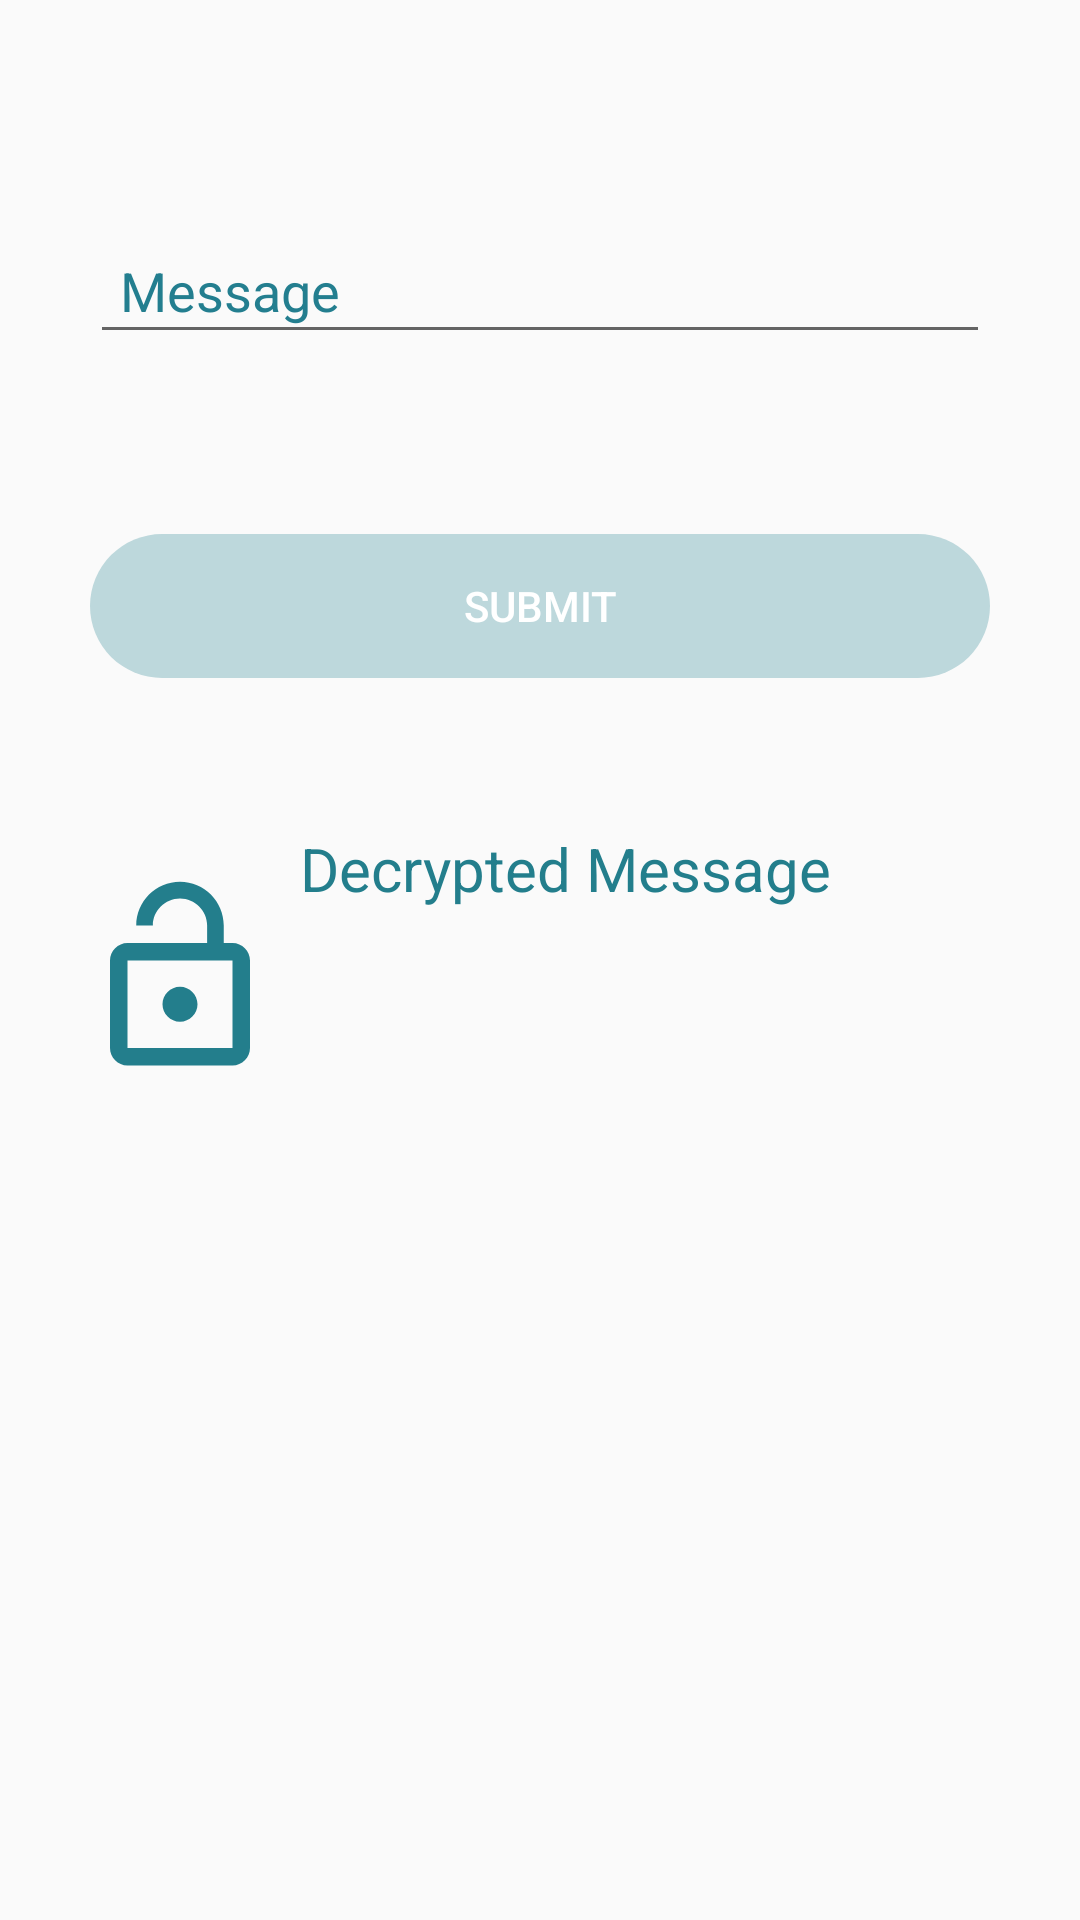

Named icons in this screenshot (1080px×1920px) and their bounding boxes, (x1, y1, x2, y2):
lock open: (110, 881, 250, 1066)
